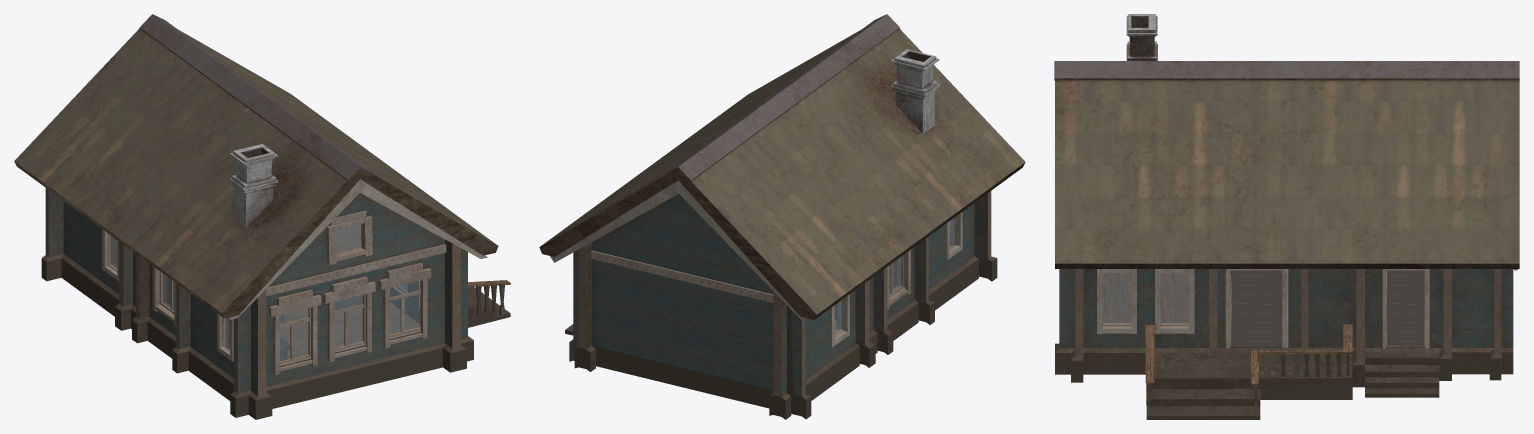
Rendered from old_russian_house.glb.
3 renders of one model, left to right at view 1: azimuth 30°, elevation 25°; view 2: azimuth 150°, elevation 25°; view 3: azimuth 270°, elevation 25°, orthographic. The views are drawn at different scales.
Visible parts, largest first — view 1: object 1, Object001_PivotDoor001_0, object 4, object 2, object 3; view 2: object 1, Object001_PivotDoor001_0, object 4, object 3, object 2; view 3: object 1, Object001_PivotDoor001_0, object 4, PivotDoor001, object 2, object 3.
Boxes of the visible parts, box(x1,y1,x2,y2) form: object 1: box(14, 14, 498, 318); Object001_PivotDoor001_0: box(41, 190, 510, 419); object 4: box(45, 179, 510, 395); object 2: box(110, 224, 420, 361); object 3: box(229, 144, 289, 360); object 1: box(539, 14, 1025, 319); Object001_PivotDoor001_0: box(565, 193, 997, 419); object 4: box(550, 180, 991, 397); object 3: box(891, 49, 939, 133); object 2: box(834, 218, 954, 333); object 1: box(1054, 61, 1519, 268); Object001_PivotDoor001_0: box(1055, 269, 1513, 419); object 4: box(1075, 269, 1517, 385); PivotDoor001: box(1231, 270, 1424, 346); object 2: box(1103, 270, 1424, 345); object 3: box(1126, 14, 1157, 60).
Size of the model in its own units: 5.14 by 3.4 by 5.57.
Materials: 6 (6 with a texture image).
